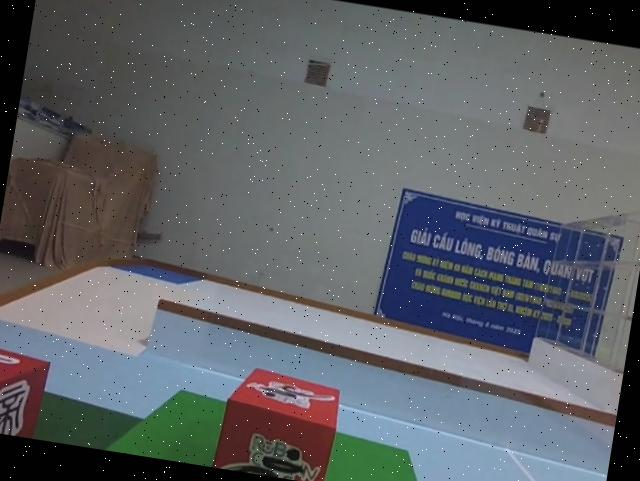R1: (205, 357, 345, 481)
R2 Fake: (0, 338, 52, 439)
